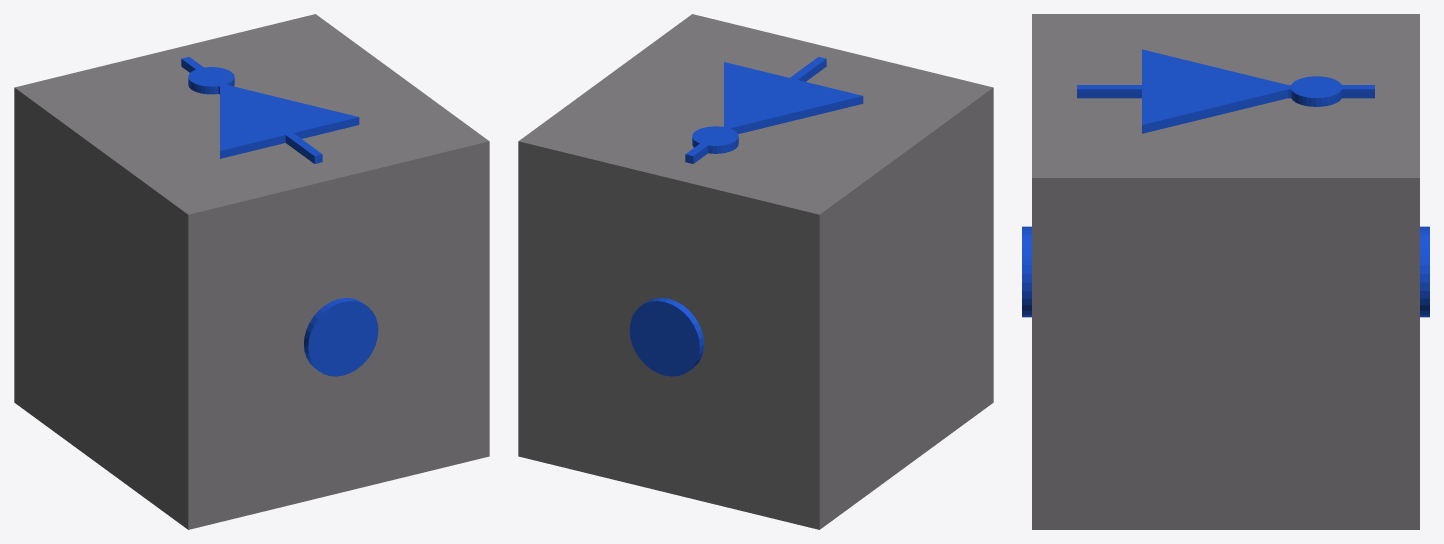
File: NOT_gate.fbx
3 renders of one model, left to right at view 1: azimuth 30°, elevation 25°; view 2: azimuth 150°, elevation 25°; view 3: azimuth 270°, elevation 25°, orthographic. The views are drawn at different scales.
Visible parts, largest first — view 1: Cube, Cylinder, Cylinder.002, Cylinder.001, Cube.001; view 2: Cube, Cylinder, Cylinder.003, Cylinder.001, Cube.003; view 3: Cube, Cylinder, Cylinder.001, Cylinder.002, Cylinder.003, Cube.001, Cube.003.
Boxes of the visible parts, <box> form: Cube: <box>14,14,489,529</box>; Cylinder: <box>220,85,359,158</box>; Cylinder.002: <box>304,298,378,376</box>; Cylinder.001: <box>188,67,234,94</box>; Cube.001: <box>280,124,322,163</box>; Cube: <box>518,14,993,529</box>; Cylinder: <box>724,62,863,134</box>; Cylinder.003: <box>629,298,703,376</box>; Cylinder.001: <box>692,126,738,153</box>; Cube.003: <box>685,120,739,163</box>; Cube: <box>1032,14,1419,529</box>; Cylinder: <box>1142,49,1288,133</box>; Cylinder.001: <box>1291,76,1342,106</box>; Cylinder.002: <box>1022,226,1031,317</box>; Cylinder.003: <box>1420,226,1429,317</box>; Cube.001: <box>1077,85,1141,98</box>; Cube.003: <box>1271,85,1374,98</box>.
Size of the model in its own units: 600 by 615 by 630.
